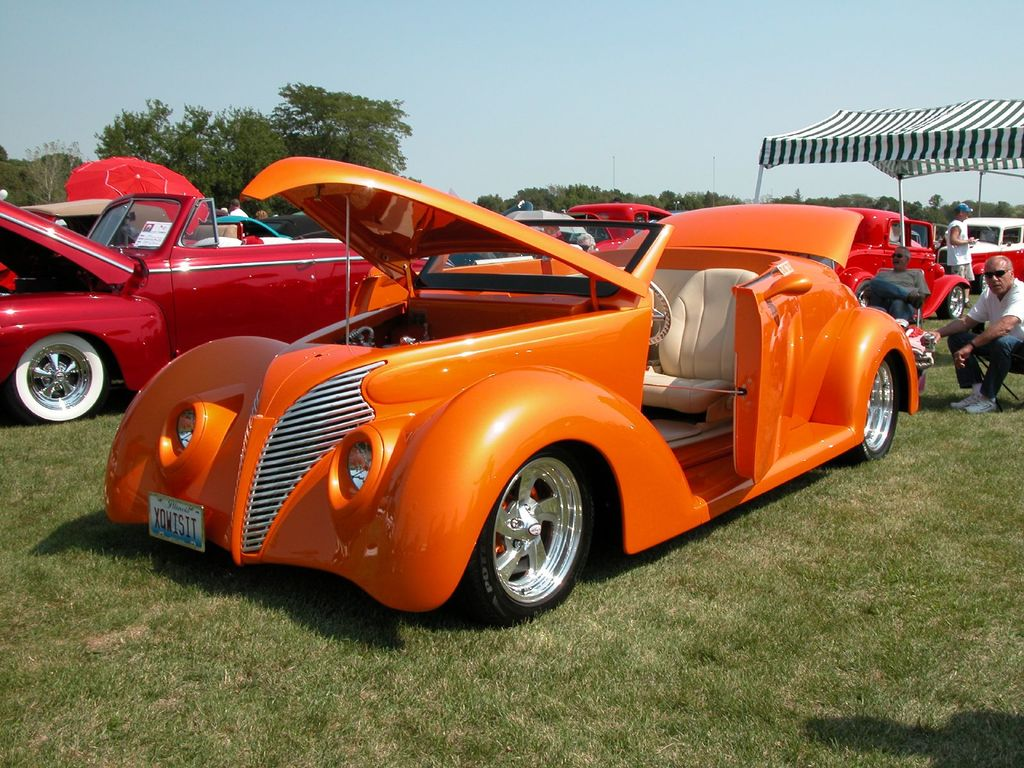mobil: (106, 196, 929, 654)
